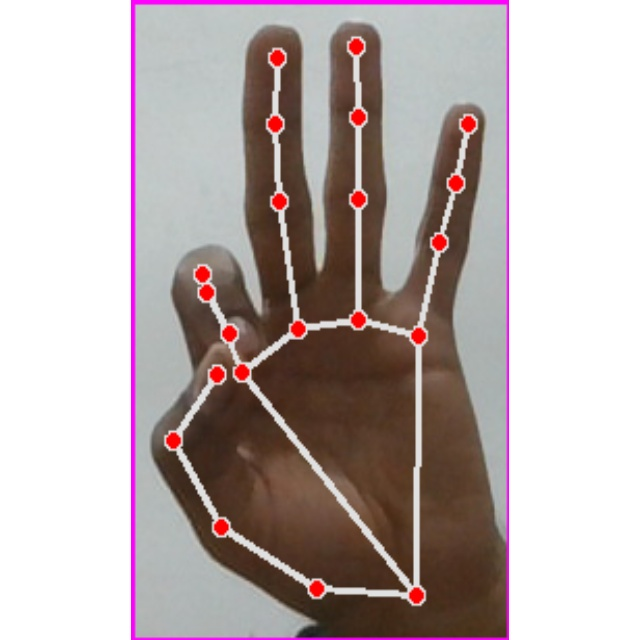F: (131, 0, 509, 640)
